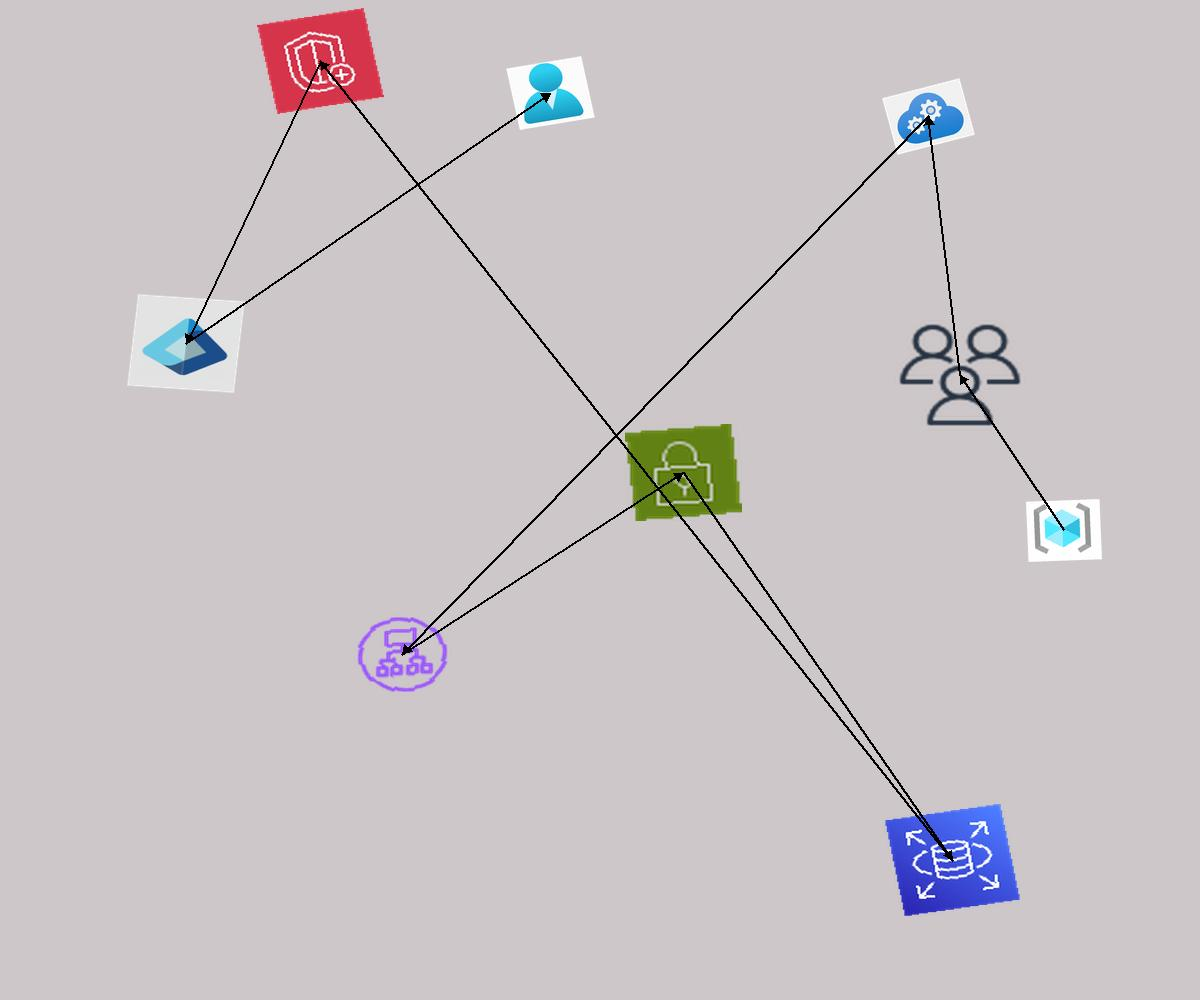AWS-Public-subnet: (625, 424, 742, 521)
AWS-RDS: (884, 803, 1021, 917)
AWS-Res_Elastic-Load-Balancing_Application-Load-Balancer: (348, 609, 457, 700)
AWS-Res_Users: (892, 318, 1028, 432)
AWS-Shield: (257, 8, 384, 114)
Azure_cloud_services: (882, 78, 975, 155)
Azure_microsoft_entra: (127, 294, 245, 393)
Azure_resource_group: (1026, 499, 1102, 562)
Azure_users: (506, 56, 595, 130)
